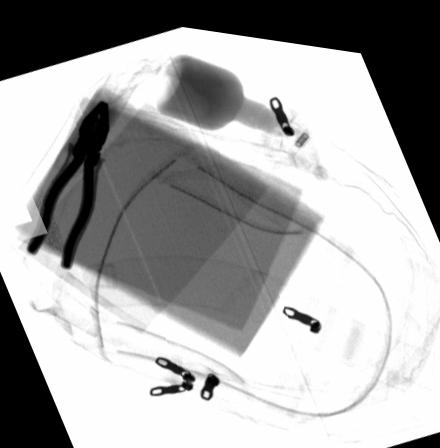Pliers: (24, 96, 110, 269)
